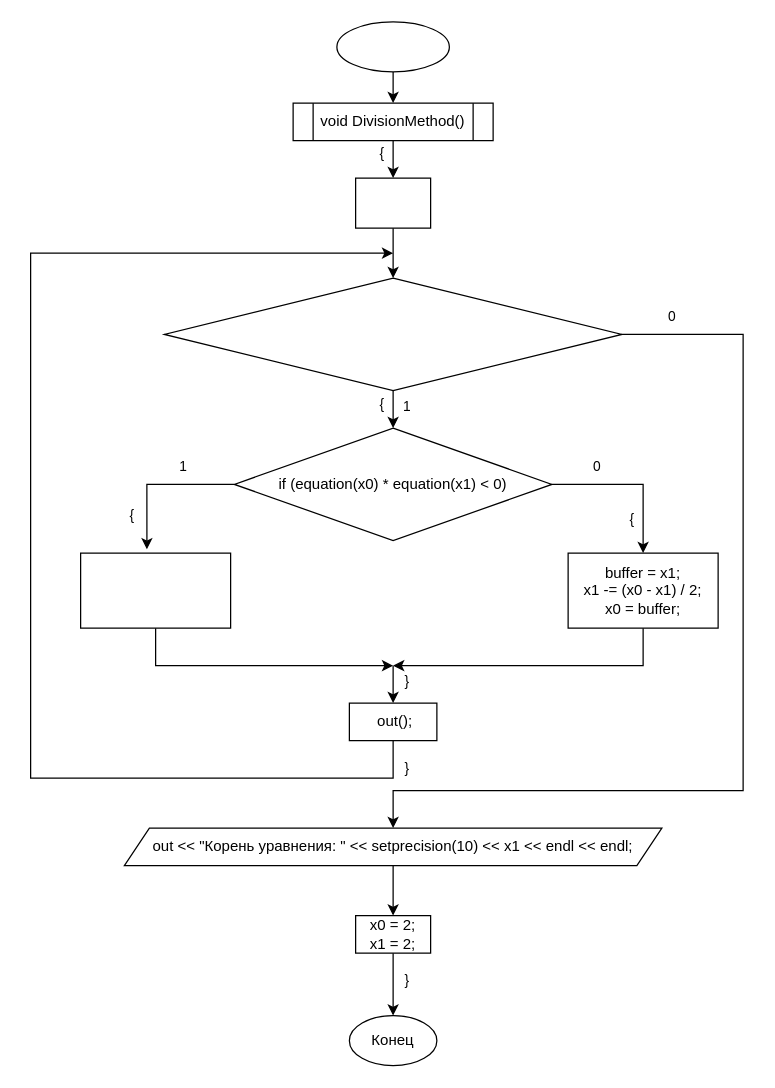
Some shapes in this 775 by 1088 pixel diagram are drawn without their labels. Each missing label, with the box of its shape:
while (fabs(equation(x0) - equation(x1)) > Epsilon): (163, 277, 622, 391)
x0 = 1; x1 = 0;: (354, 177, 431, 228)
x1 += (x0 - x1) / 2;: (79, 552, 231, 628)
Начало: (336, 21, 449, 72)
